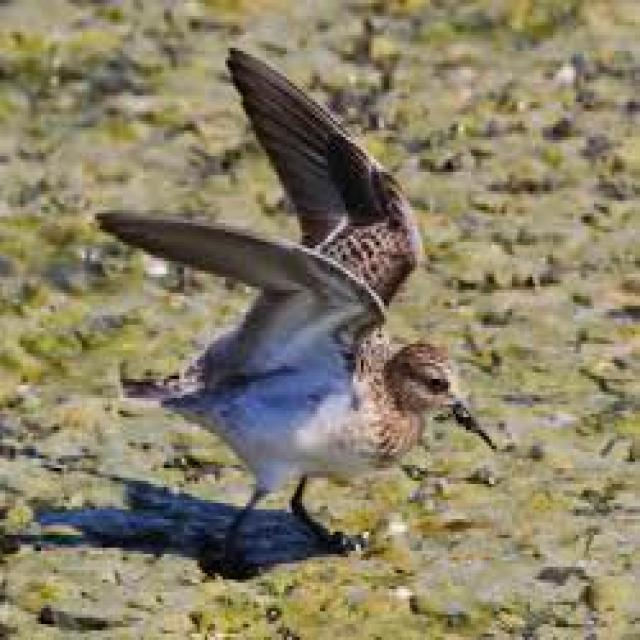sandpiper: (97, 48, 489, 557)
